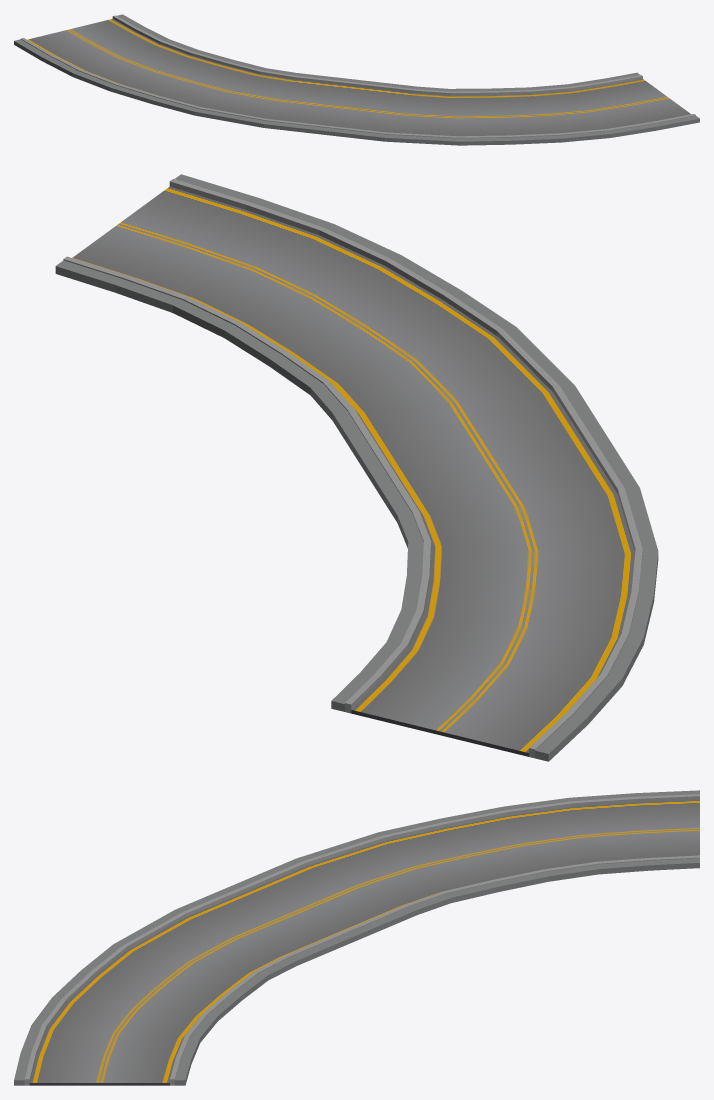
File: Road1_Curve4.dae
3 views of the same model, one above another, from view 1: azimuth 30°, elevation 25°; view 2: azimuth 150°, elevation 25°; view 3: azimuth 270°, elevation 25° (orthographic). The views are drawn at different scales.
Parts seen in each view (by area): view 1: Road1_Curve4; view 2: Road1_Curve4; view 3: Road1_Curve4.
Part boxes in pixels (bbox=[...]): Road1_Curve4: bbox=[14, 14, 699, 145]; Road1_Curve4: bbox=[55, 174, 658, 761]; Road1_Curve4: bbox=[14, 790, 699, 1085].
Bounding box in the file's own units: 48 × 48 × 0.4753.
1 material, 1 textured.
